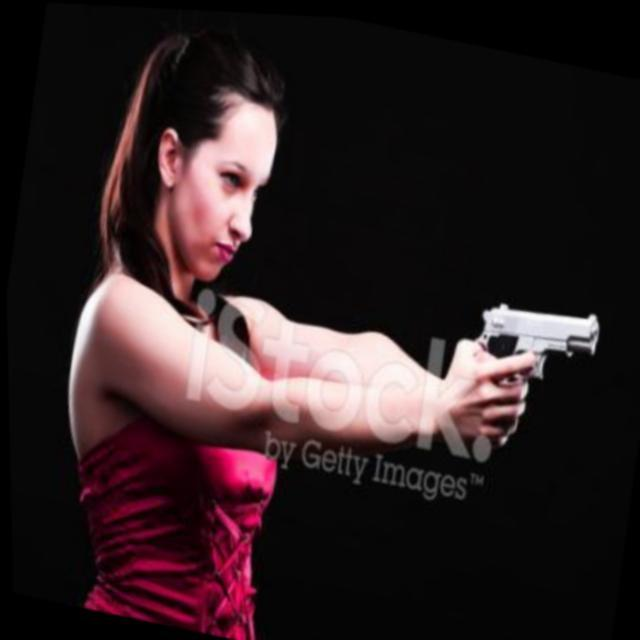weapon: (436, 278, 623, 456)
